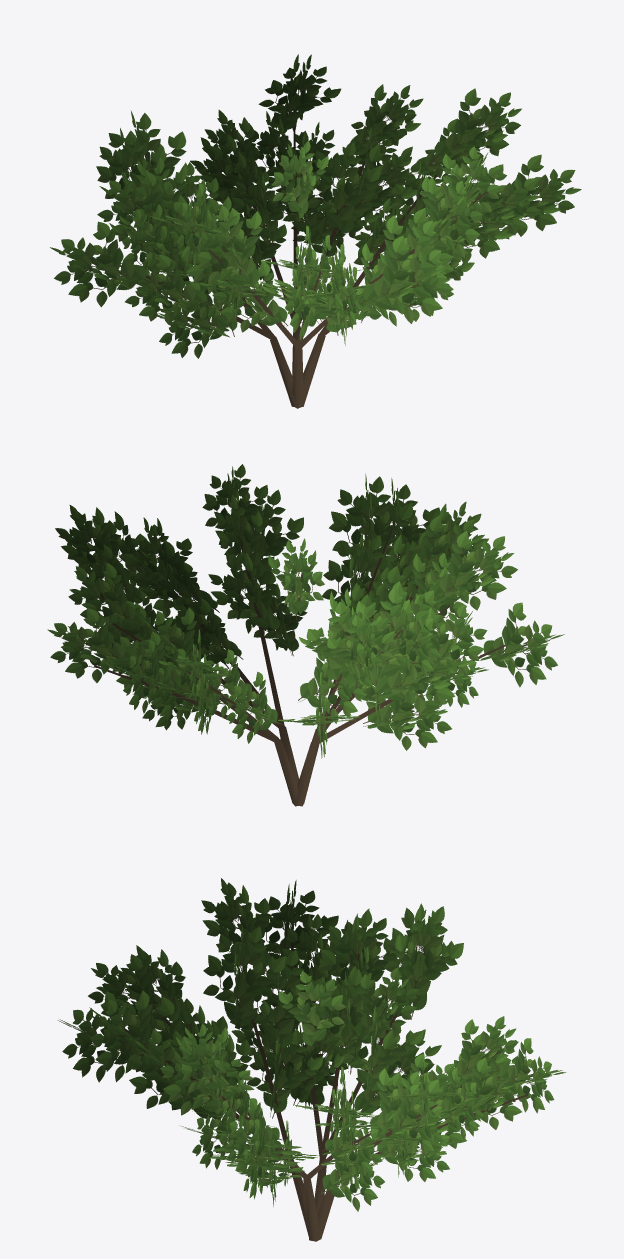
File: Tall Shrub 04.glb
3 renders of one model, top to bottom at view 1: azimuth 30°, elevation 25°; view 2: azimuth 150°, elevation 25°; view 3: azimuth 270°, elevation 25°, orthographic. The views are drawn at different scales.
Visible parts, largest first — view 1: Tall Shrub 04; view 2: Tall Shrub 04; view 3: Tall Shrub 04.
Part boxes in pixels (x1,y1,x2,y2): Tall Shrub 04: (50,54,581,408); Tall Shrub 04: (47,464,564,806); Tall Shrub 04: (57,878,566,1241).
Bounding box in the file's own units: 3.94 × 2.12 × 3.53.
Materials: 1 (1 with a texture image).
